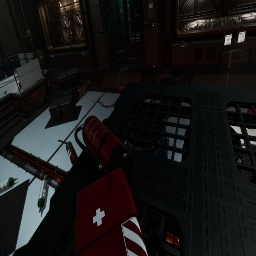0: (38, 180, 48, 213), (0, 177, 18, 192)
EmergencyPhone ,: (42, 51, 46, 58)
FireExtinguisher ]: (74, 115, 136, 188)
FirstAidBox ,: (73, 168, 168, 256), (247, 109, 256, 129), (18, 82, 22, 89)
NitrogenTank ,: (66, 141, 78, 165), (117, 83, 126, 91), (167, 137, 169, 151)
SafetySwitchPanel ,: (148, 0, 155, 19), (36, 49, 44, 65)
